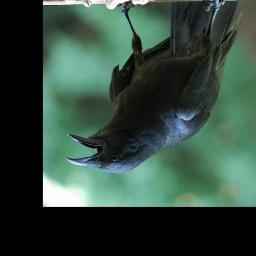Crow: (65, 0, 243, 174)
